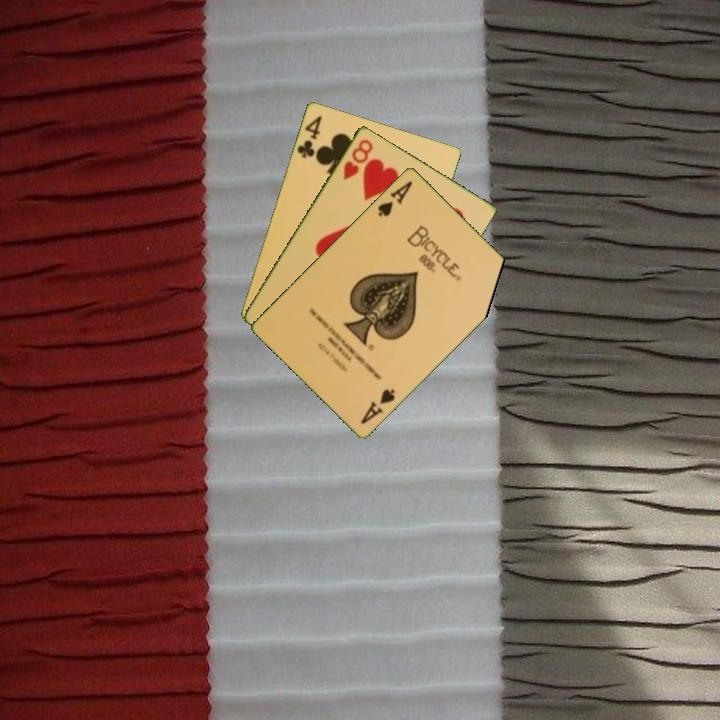4c: (293, 112, 325, 161)
8h: (339, 135, 376, 182)
As: (374, 177, 416, 219), (357, 385, 398, 427)
